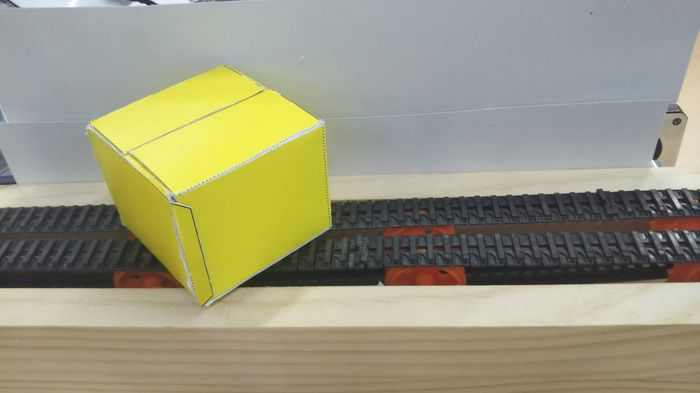box4: (85, 59, 337, 308)
